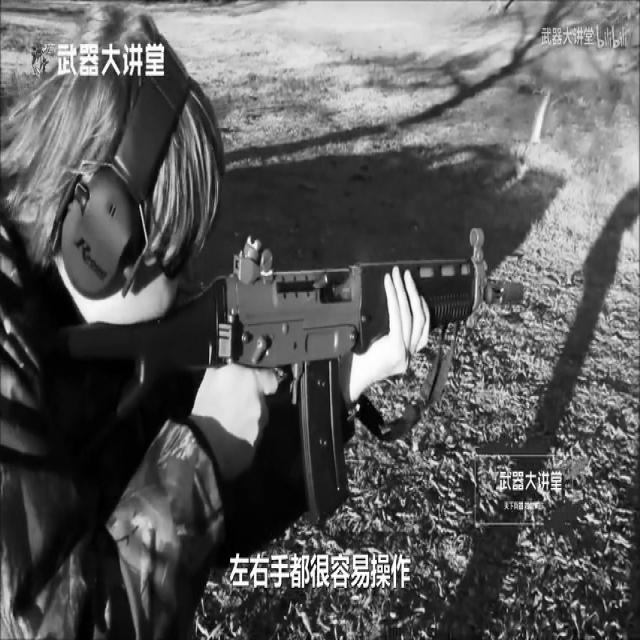Rifle: (84, 220, 522, 551)
